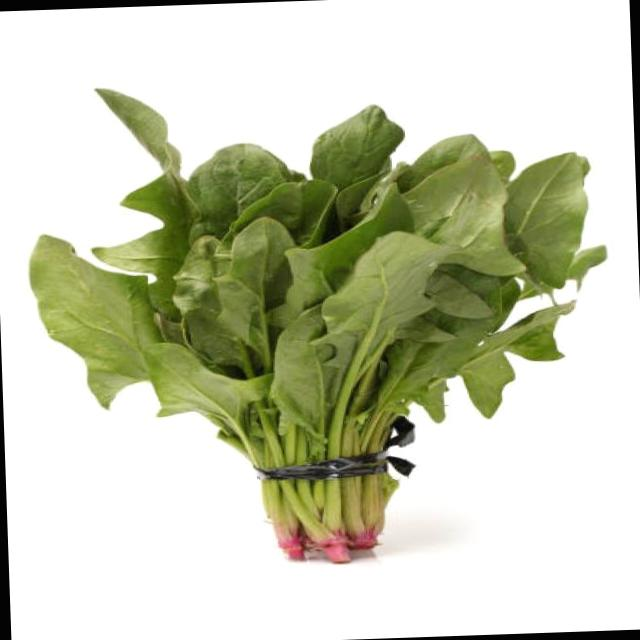Lettuce-Ready-to-Harvest: (27, 88, 608, 560)
